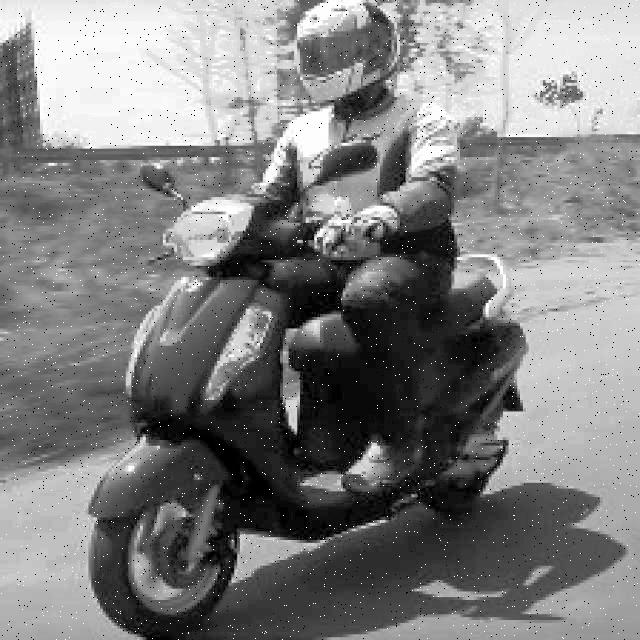Bike: (80, 160, 554, 638)
